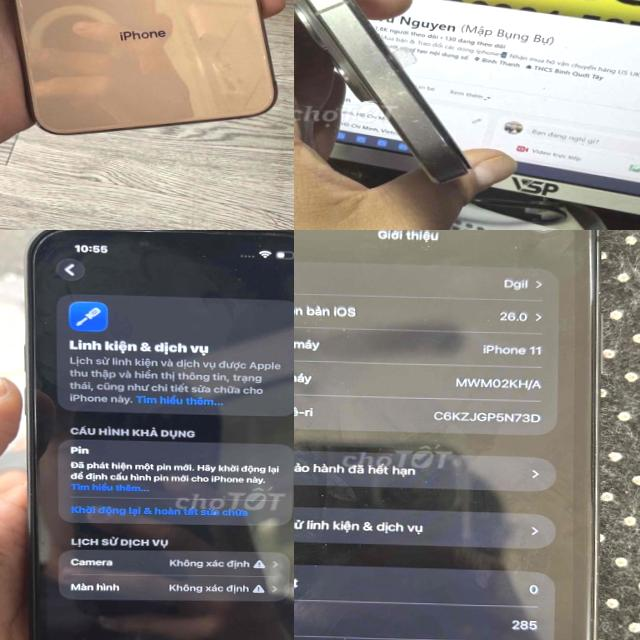gen_11: (294, 230, 609, 640)
gen_12_13: (10, 230, 294, 640)
gen_15: (294, 0, 508, 203)
gen_x_xs: (0, 0, 294, 145)
scratch: (377, 90, 453, 172), (354, 43, 404, 93), (296, 0, 370, 14), (192, 28, 216, 52)
